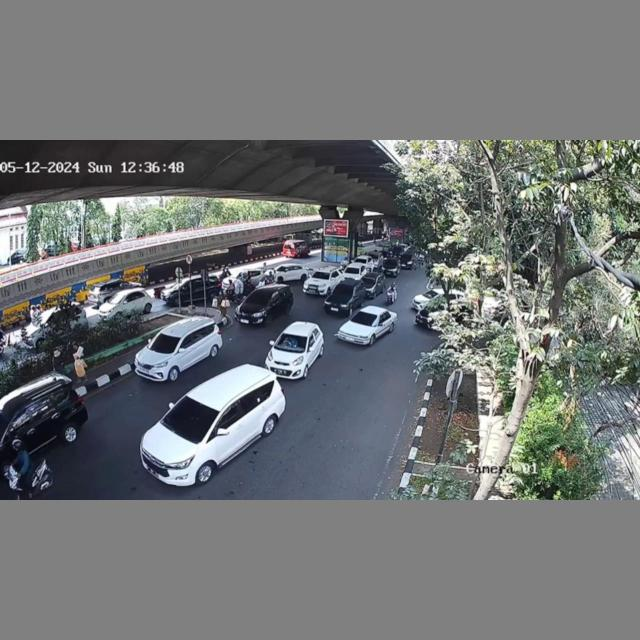windshield: (163, 395, 219, 446), (146, 331, 180, 353), (273, 333, 308, 351), (353, 312, 379, 328)
